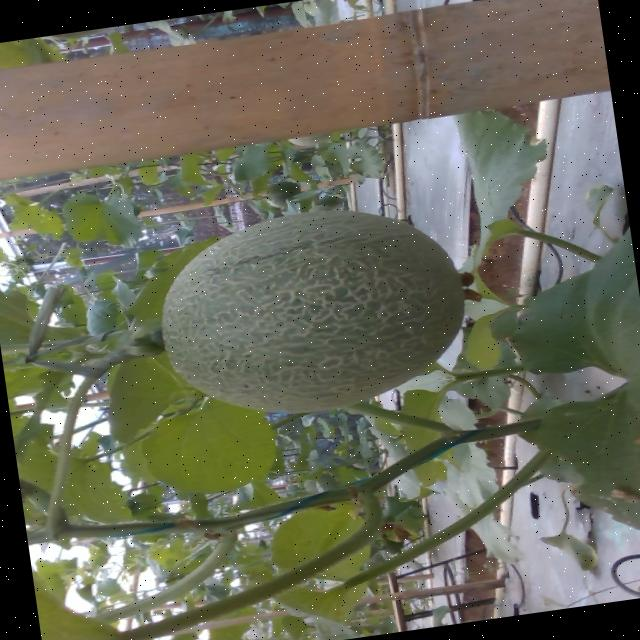melon: (164, 210, 462, 410)
